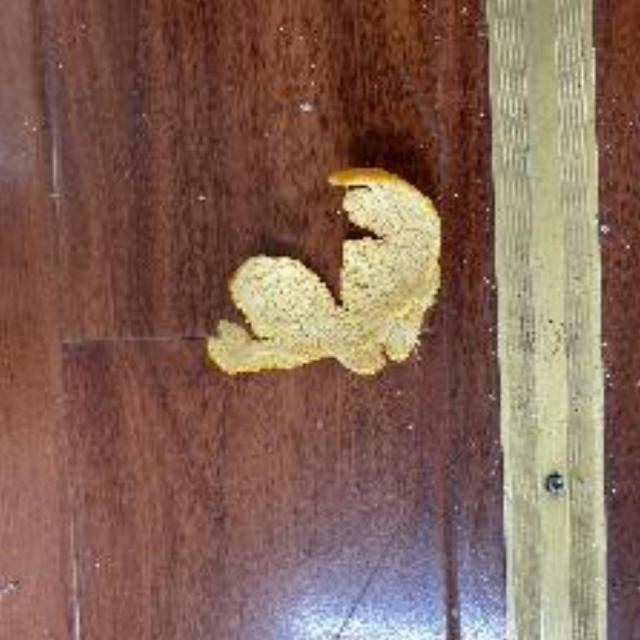orange peel: (204, 166, 448, 377)
